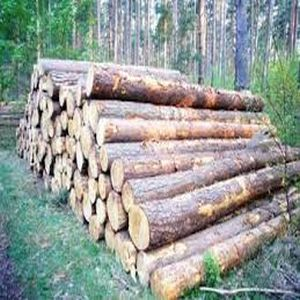log: (125, 202, 153, 251), (113, 233, 136, 273), (148, 270, 173, 300), (105, 192, 122, 232), (108, 157, 125, 191), (135, 251, 149, 289), (82, 68, 98, 98), (120, 179, 135, 211), (70, 169, 86, 198), (94, 196, 109, 226), (86, 152, 102, 179), (85, 100, 100, 128), (103, 223, 118, 250), (79, 129, 94, 155), (73, 142, 86, 172), (65, 89, 78, 119), (96, 173, 110, 200), (88, 215, 102, 242), (95, 117, 108, 146), (80, 198, 95, 222), (74, 81, 86, 108), (86, 178, 99, 202), (55, 83, 68, 106), (46, 71, 57, 96), (59, 110, 69, 130)
